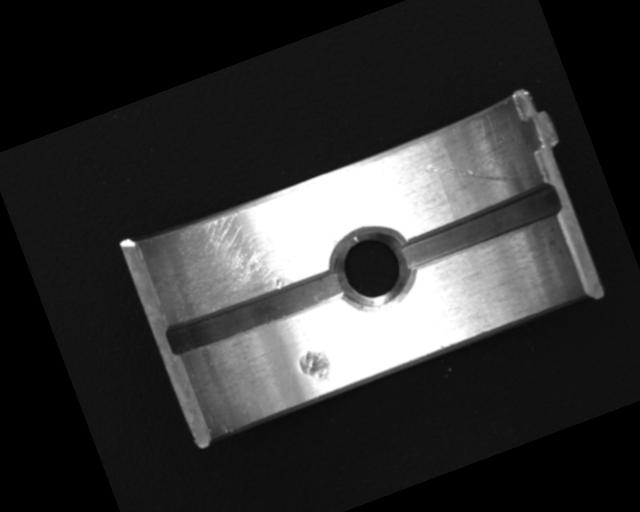bruise: (295, 345, 335, 390)
gap: (163, 260, 352, 361), (398, 182, 564, 272)
hole: (322, 214, 422, 319)
nick: (421, 136, 515, 210)
scratch: (145, 179, 332, 326)
